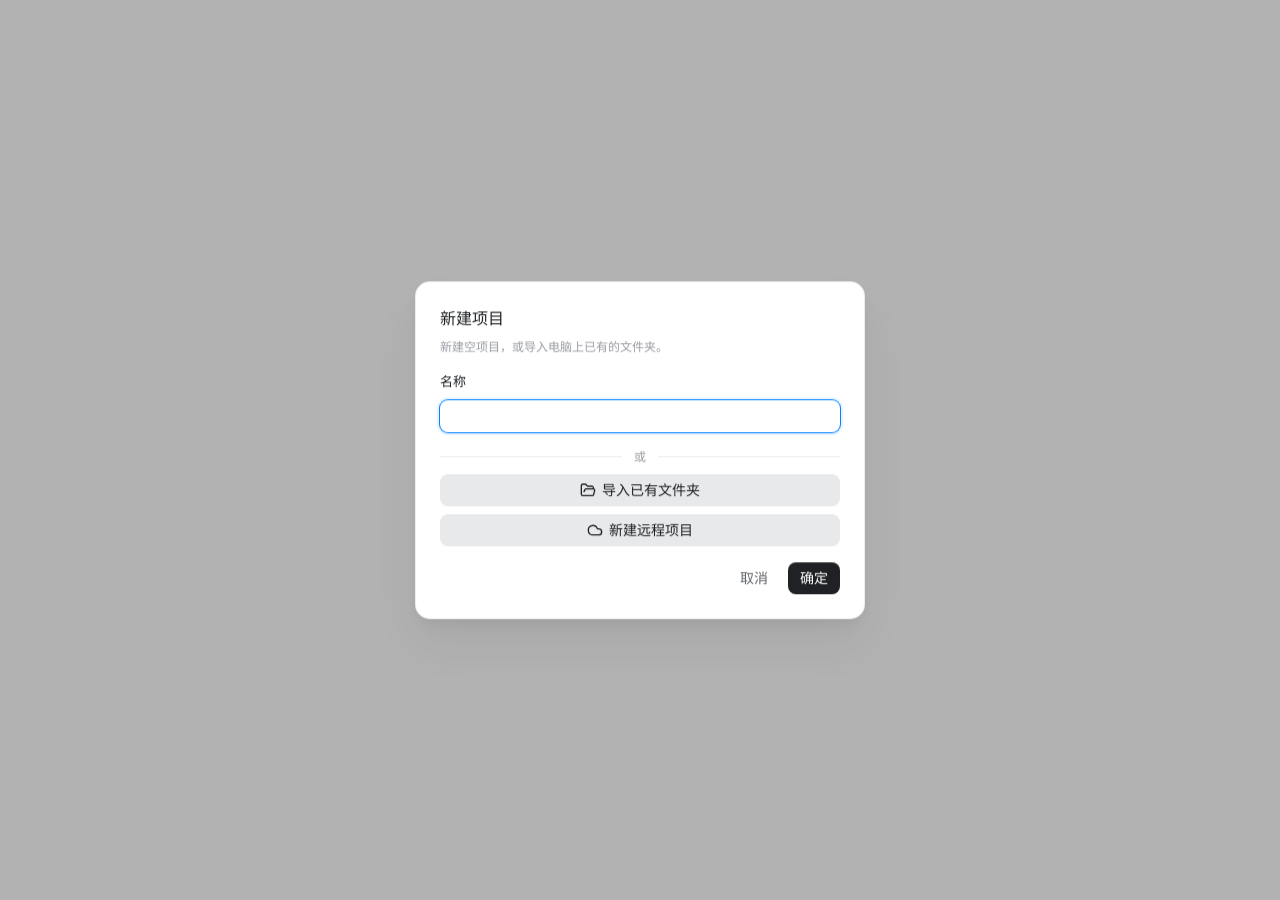
Test: reports a rejected folder without closing
Click the button "导入已有文件夹": coordinates (640, 490) [440,474,840,506]
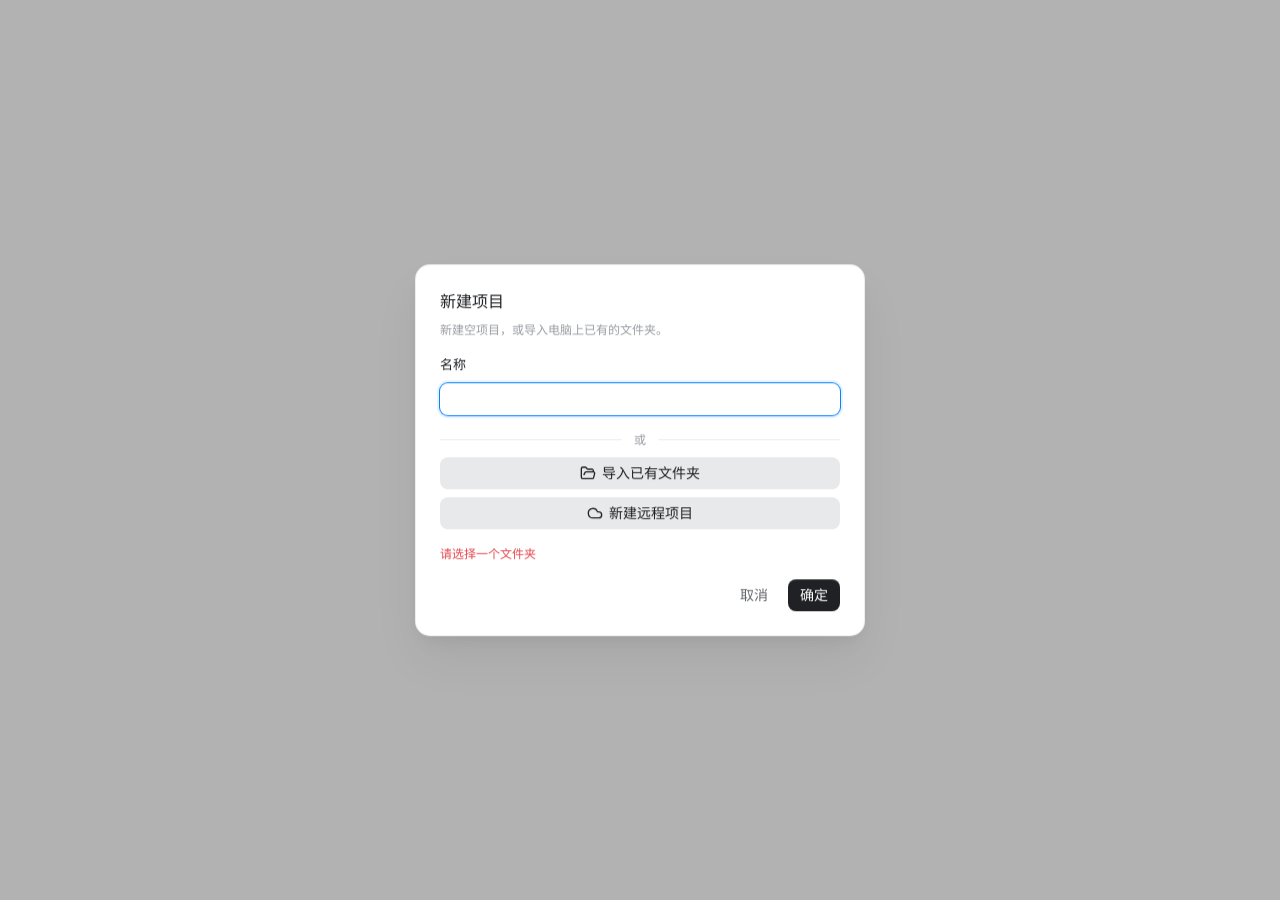
Expected: the message "请选择一个文件夹" is shown, [440,546,536,561]
